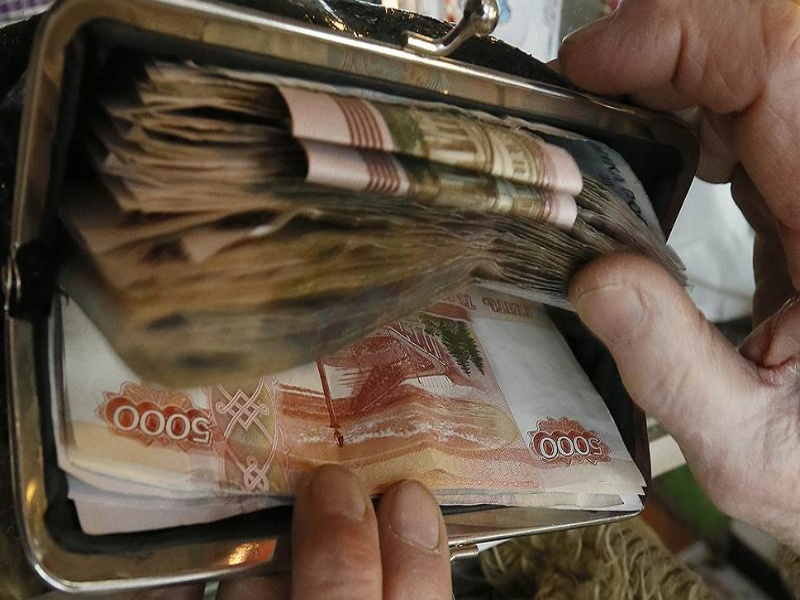cash: (66, 54, 690, 378), (48, 287, 647, 533)
